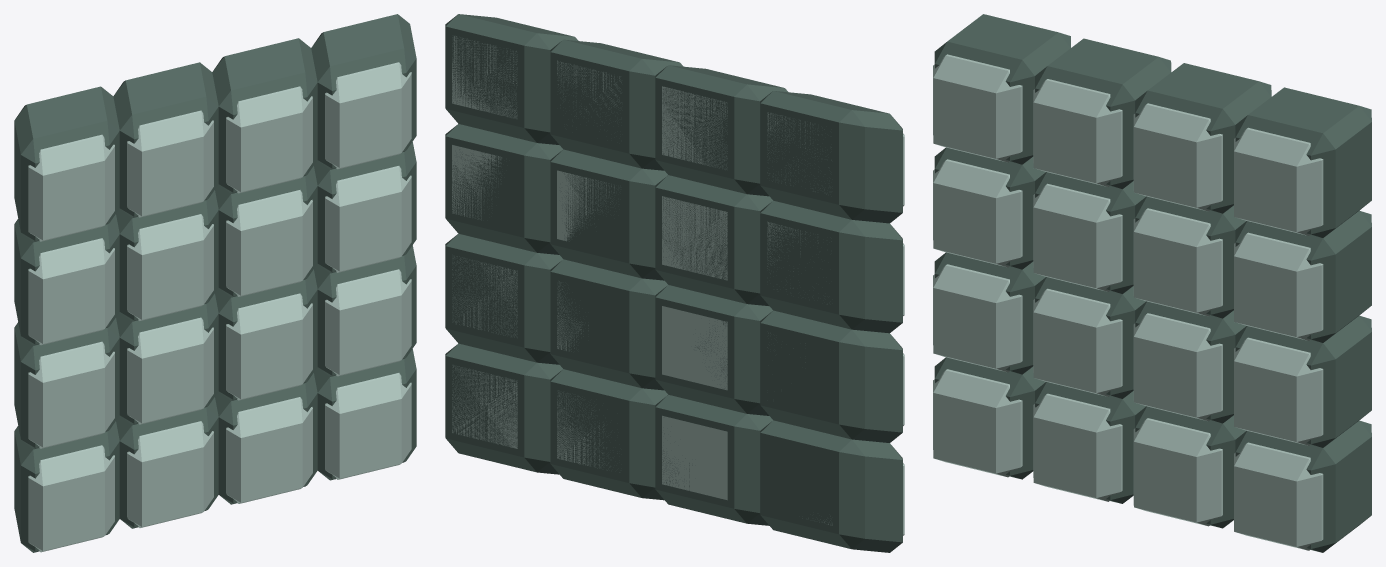
The model's file is Terrain_Block4x4.gltf.
The picture shows the model from 3 angles, left to right: view 1: azimuth 30°, elevation 25°; view 2: azimuth 150°, elevation 25°; view 3: azimuth 330°, elevation 25°; orthographic projection. The views are drawn at different scales.
Visible parts, largest first — view 1: Terrain_Block4x4_baked; view 2: Terrain_Block4x4_baked; view 3: Terrain_Block4x4_baked.
Boxes of the visible parts, x1=… form: Terrain_Block4x4_baked: x1=14, y1=14, x2=416, y2=552; Terrain_Block4x4_baked: x1=445, y1=14, x2=904, y2=552; Terrain_Block4x4_baked: x1=933, y1=14, x2=1371, y2=552.
Size of the model in its own units: 4.15 by 4.15 by 0.7.
